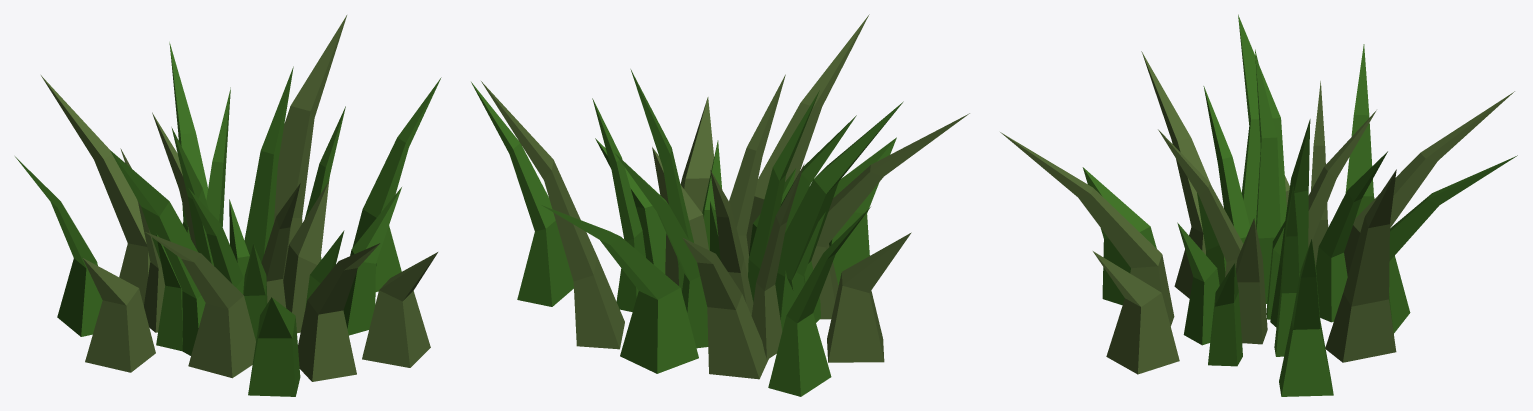
Rendered from Grass_4.fbx.
The picture shows the model from 3 angles, left to right: view 1: azimuth 30°, elevation 25°; view 2: azimuth 150°, elevation 25°; view 3: azimuth 270°, elevation 25°; orthographic projection. The views are drawn at different scales.
Parts seen in each view (by area): view 1: Grass_4; view 2: Grass_4; view 3: Grass_4.
Part boxes in pixels (box(x1,y1,x2,y2)): Grass_4: box(15, 15, 441, 396); Grass_4: box(471, 14, 969, 396); Grass_4: box(1000, 14, 1517, 396).
Bounding box in the file's own units: 0.9542 × 0.5337 × 1.07.
